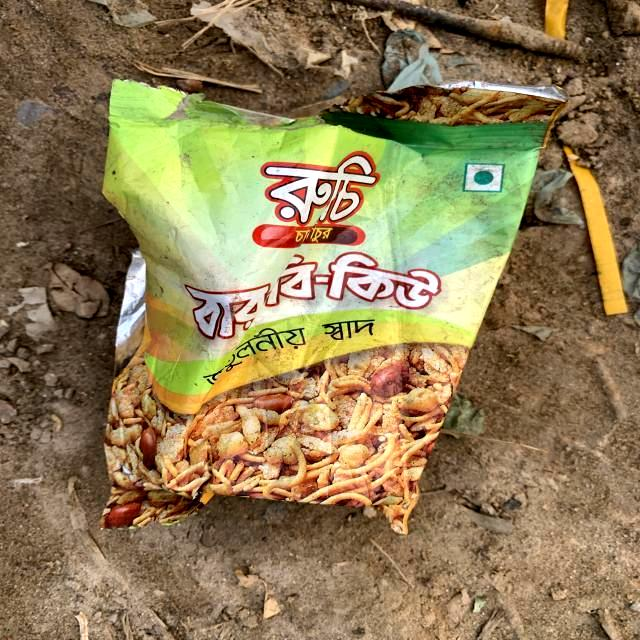packet: (100, 76, 547, 535)
